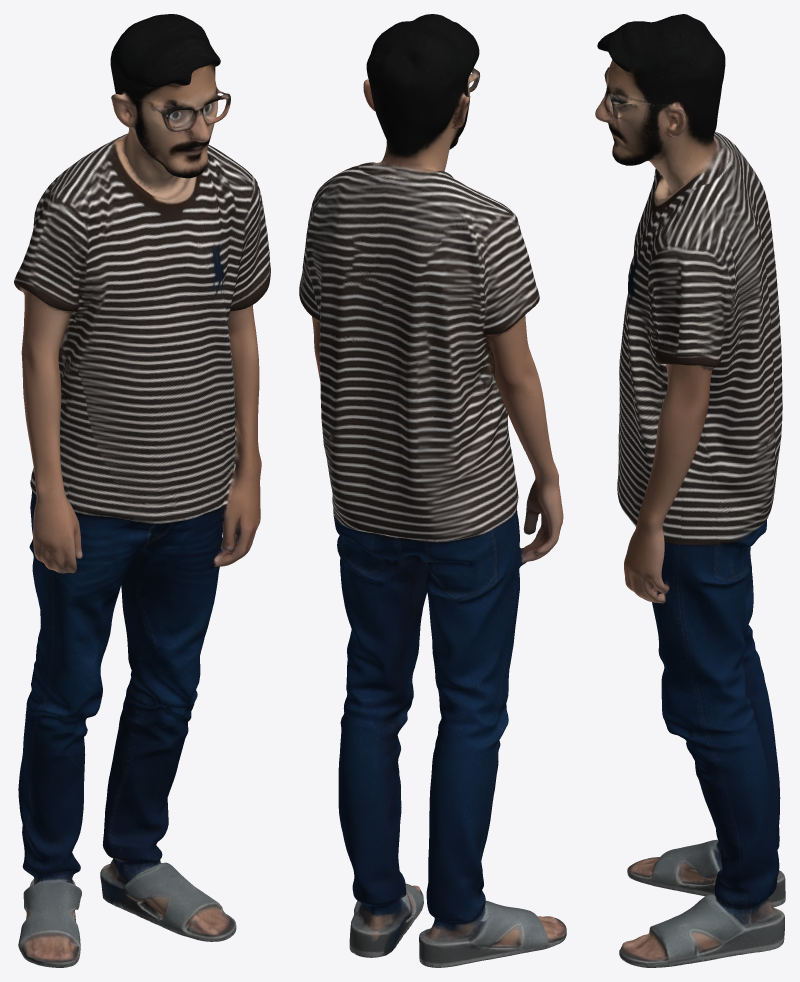
The model's file is avatar-original.glb.
3 renders of one model, left to right at view 1: azimuth 30°, elevation 25°; view 2: azimuth 150°, elevation 25°; view 3: azimuth 270°, elevation 25°, orthographic. The views are drawn at different scales.
Visible parts, largest first — view 1: Meshy_AI_Striped_Shirt_Portrait_20261118_texture; view 2: Meshy_AI_Striped_Shirt_Portrait_20261118_texture; view 3: Meshy_AI_Striped_Shirt_Portrait_20261118_texture.
Part boxes in pixels (x1,y1,x2,y2): Meshy_AI_Striped_Shirt_Portrait_20261118_texture: [14, 14, 270, 967]; Meshy_AI_Striped_Shirt_Portrait_20261118_texture: [299, 14, 566, 967]; Meshy_AI_Striped_Shirt_Portrait_20261118_texture: [595, 14, 785, 967].
Bounding box in the file's own units: 0.642 × 2.2 × 0.4121.
Materials: 1 (1 with a texture image).
